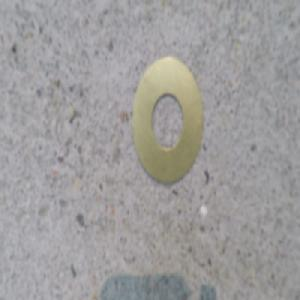Washer: (128, 53, 202, 183)
